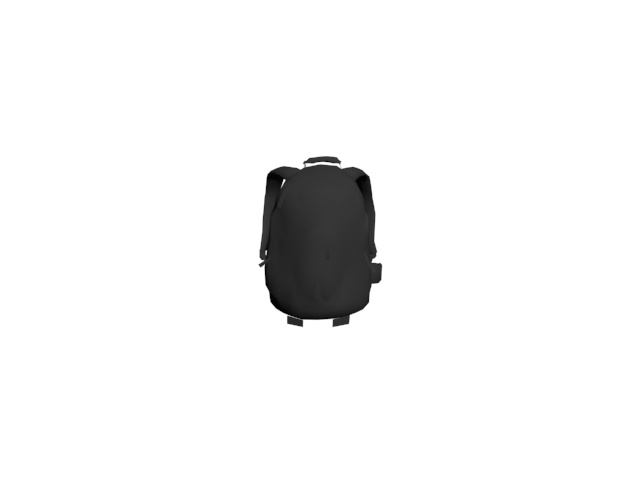back_pack: (257, 153, 384, 328)
